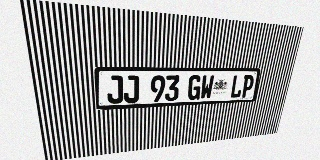3: (165, 75, 180, 101)
9: (150, 75, 166, 102)
G: (187, 75, 202, 100)
J: (106, 75, 123, 104), (123, 75, 139, 103)
L: (230, 75, 244, 98)
P: (240, 75, 255, 98)
W: (200, 75, 215, 100)
